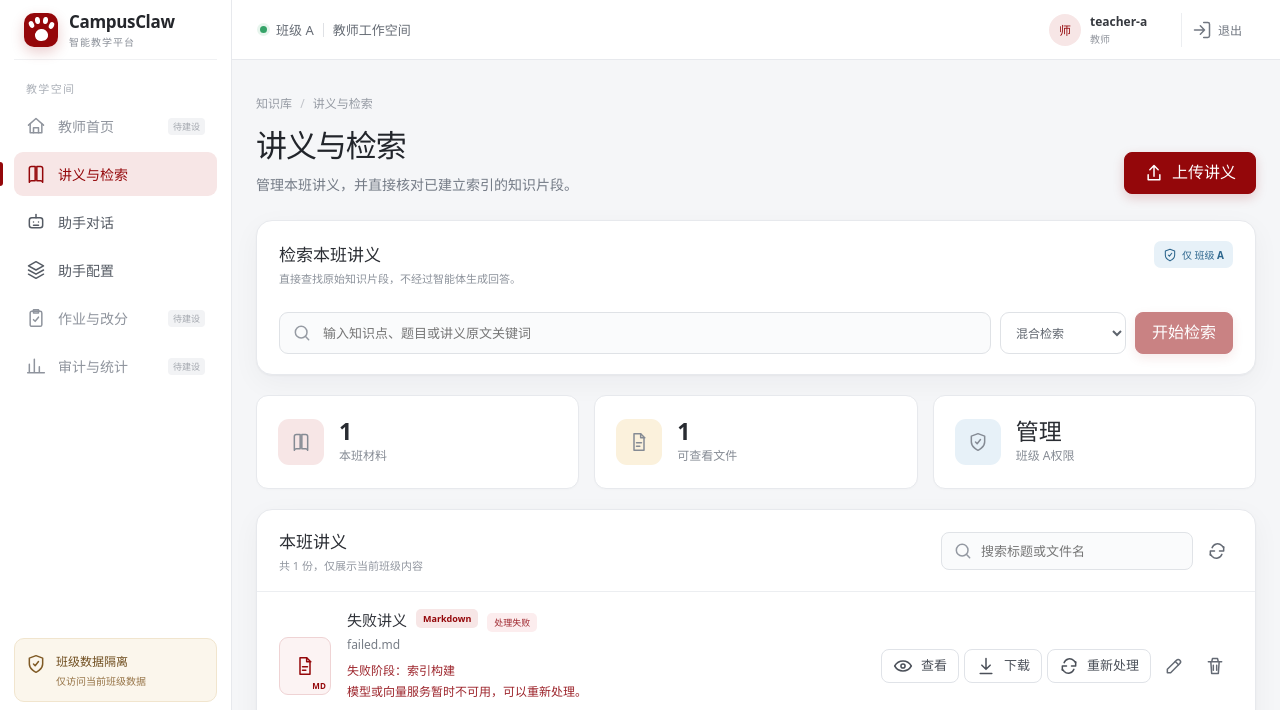
MaterialsView › lets a teacher retry a retryable failed material
This screenshot has width=1280, height=710.
Click the button with aria-label "重新处理 失败讲义" at (1099, 666), box [1047,649,1151,683]
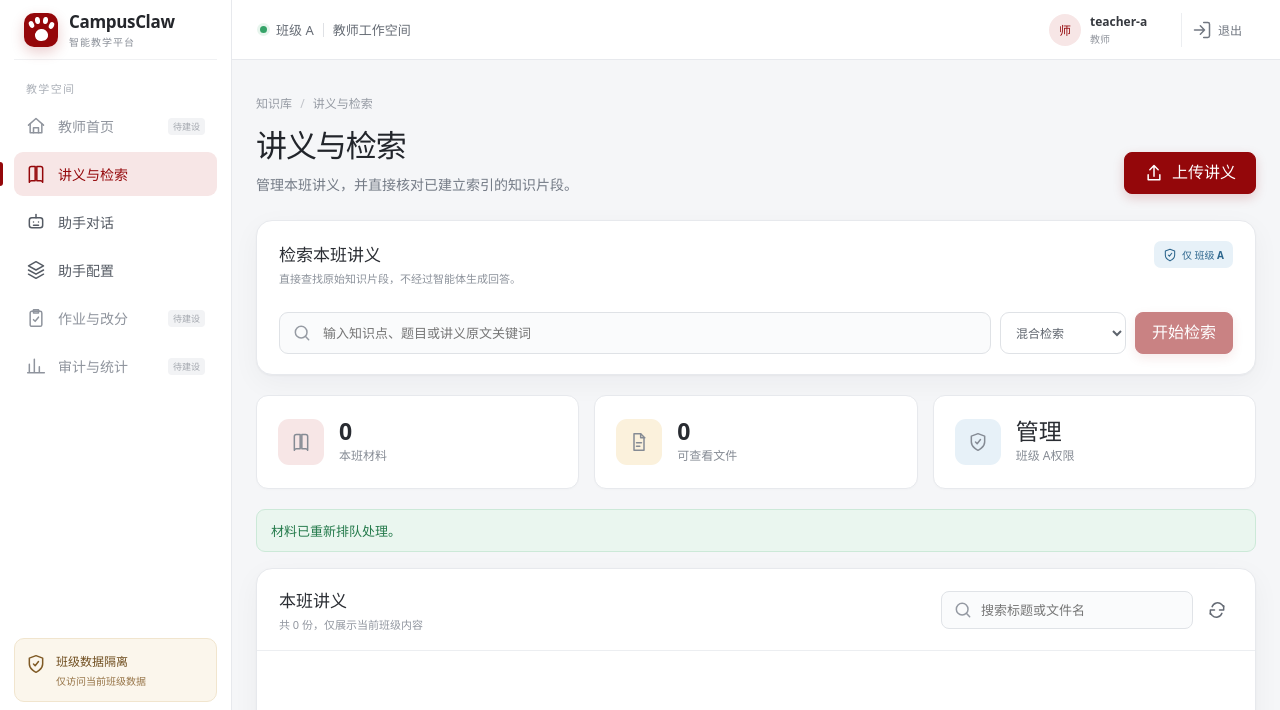
Now the text "材料已重新排队处理" is shown, box [271,522,401,540]
